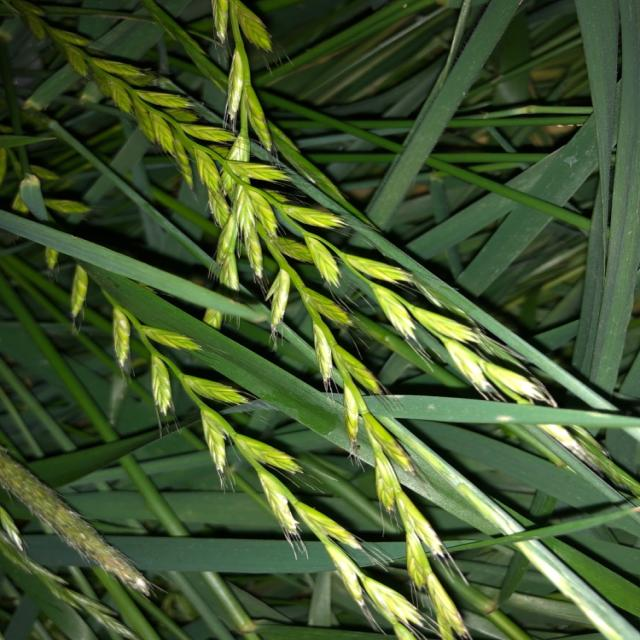Lolium: (28, 21, 452, 594), (28, 12, 550, 418), (21, 181, 416, 637)
